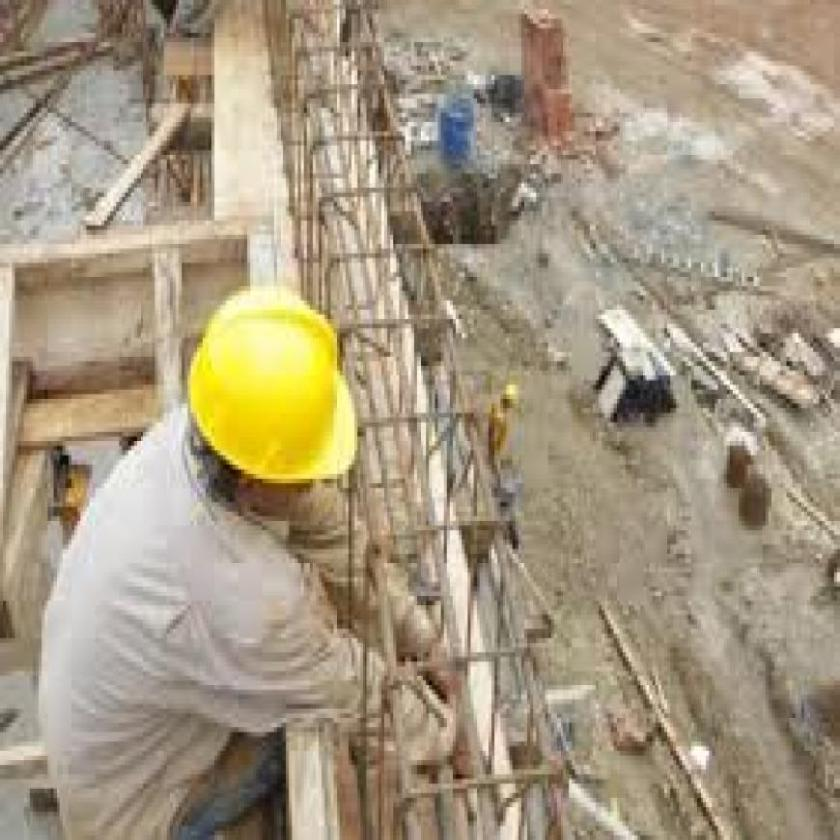Con_casco: (184, 283, 365, 532)
